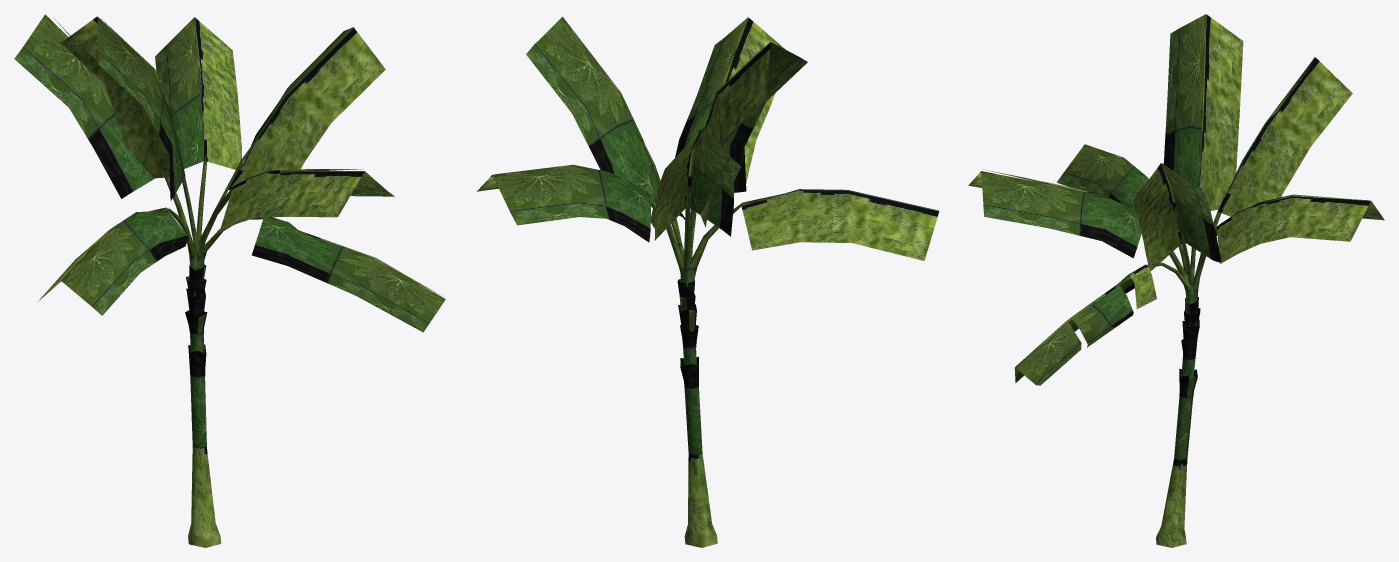
File: tree_animation-0-100.FBX
The picture shows the model from 3 angles, left to right: view 1: azimuth 30°, elevation 25°; view 2: azimuth 150°, elevation 25°; view 3: azimuth 270°, elevation 25°; orthographic projection. The views are drawn at different scales.
Parts seen in each view (by area): view 1: default; view 2: default; view 3: default.
Part boxes in pixels (x1,y1,x2,y2): default: (14,14,445,547); default: (477,16,939,547); default: (968,14,1384,547).
Size of the model in its own units: 596 by 852 by 661.
1 material, 1 textured.
